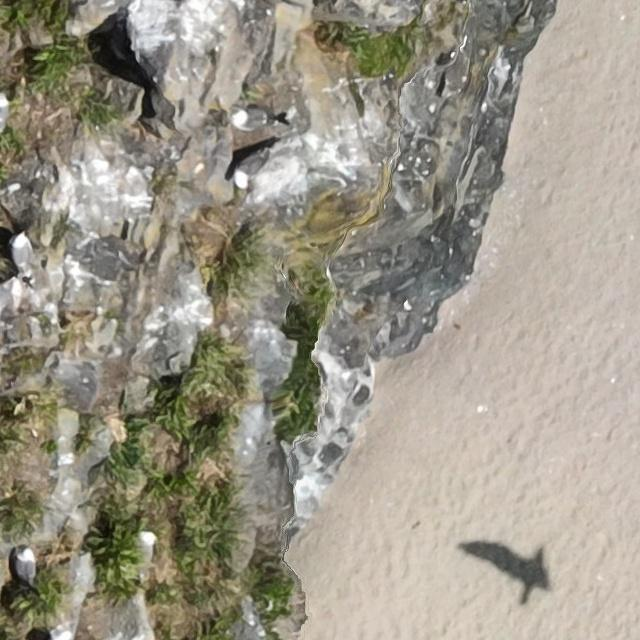umineko: (235, 148, 274, 188), (230, 110, 270, 129), (12, 237, 32, 274), (16, 547, 35, 583), (140, 533, 154, 558), (0, 97, 7, 133)
